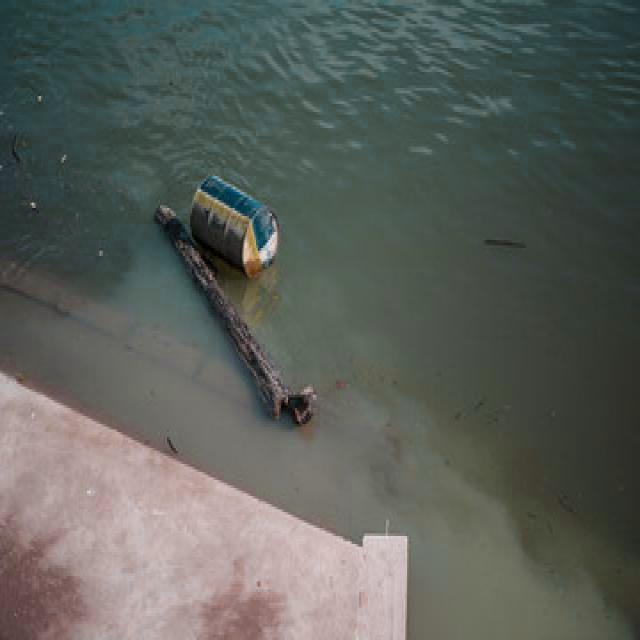Metal: (192, 172, 278, 276)
